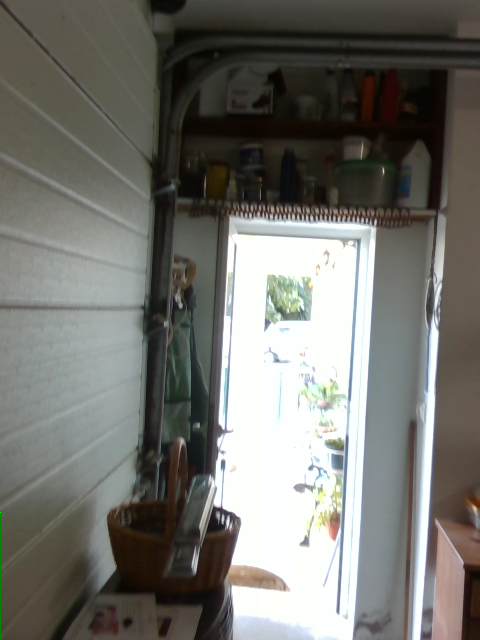open: (206, 210, 379, 616)
